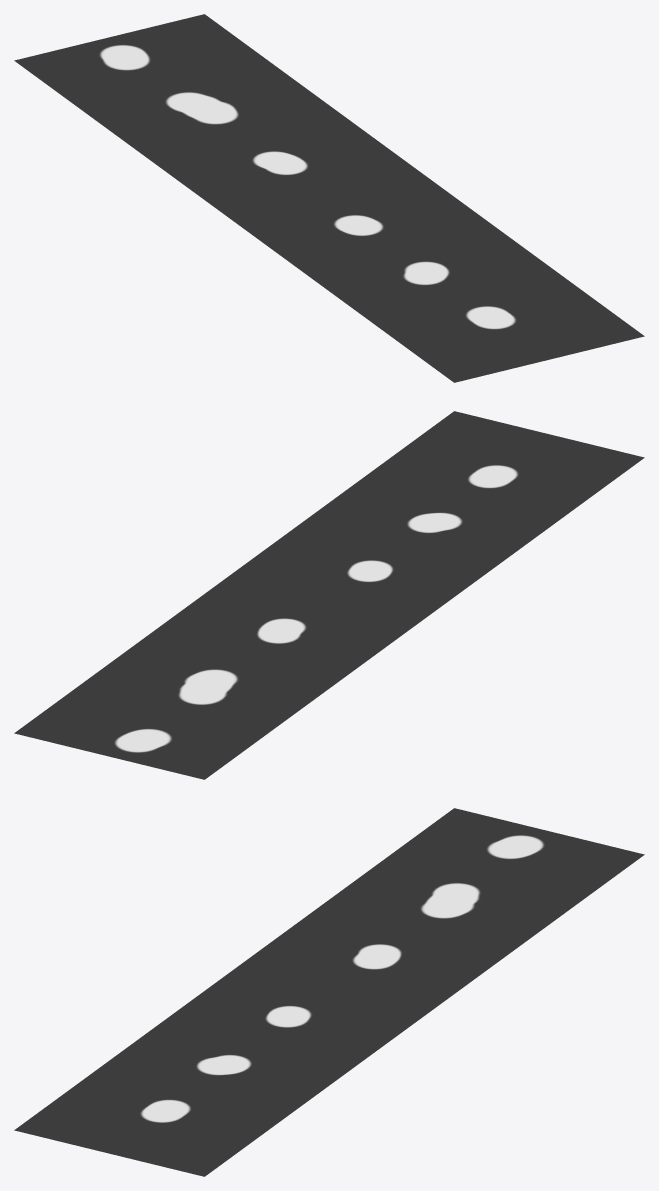
Rendered from carretera-basic.glb.
The picture shows the model from 3 angles, top to bottom: view 1: azimuth 30°, elevation 25°; view 2: azimuth 150°, elevation 25°; view 3: azimuth 330°, elevation 25°; orthographic projection.
Parts seen in each view (by area): view 1: Plano; view 2: Plano; view 3: Plano.
Part boxes in pixels (x1,y1,x2,y2): Plano: [14, 14, 644, 382]; Plano: [14, 411, 644, 779]; Plano: [14, 808, 644, 1176].
Size of the model in its own units: 2 by 0 by 8.
1 material, 1 textured.
